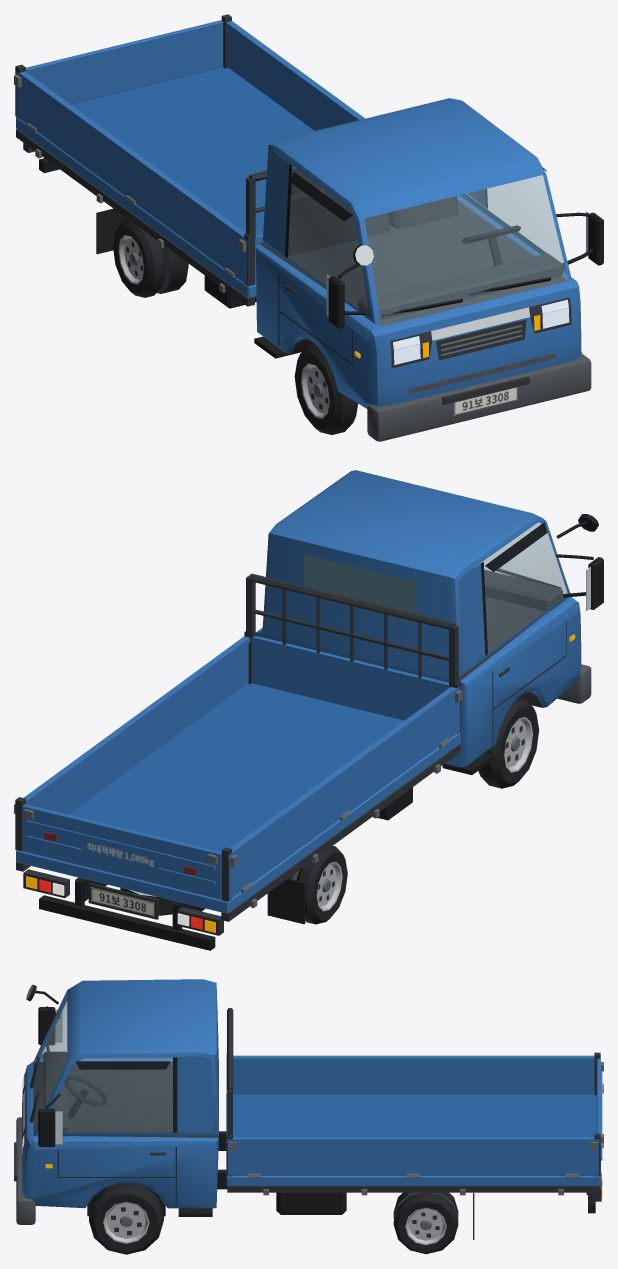
File: SC_Veh_Truck_1Ton_Blue.gltf
3 views of the same model, one above another, from view 1: azimuth 30°, elevation 25°; view 2: azimuth 150°, elevation 25°; view 3: azimuth 270°, elevation 25° (orthographic). The views are drawn at different scales.
Visible parts, largest first — view 1: SC_Veh_Truck_1Ton_Blue; view 2: SC_Veh_Truck_1Ton_Blue; view 3: SC_Veh_Truck_1Ton_Blue.
Part boxes in pixels (bbox=[...]): SC_Veh_Truck_1Ton_Blue: bbox=[14, 14, 603, 441]; SC_Veh_Truck_1Ton_Blue: bbox=[14, 470, 603, 950]; SC_Veh_Truck_1Ton_Blue: bbox=[14, 979, 603, 1254].
Size of the model in its own units: 2.18 by 1.97 by 5.2.
Materials: 4 (4 with a texture image).
